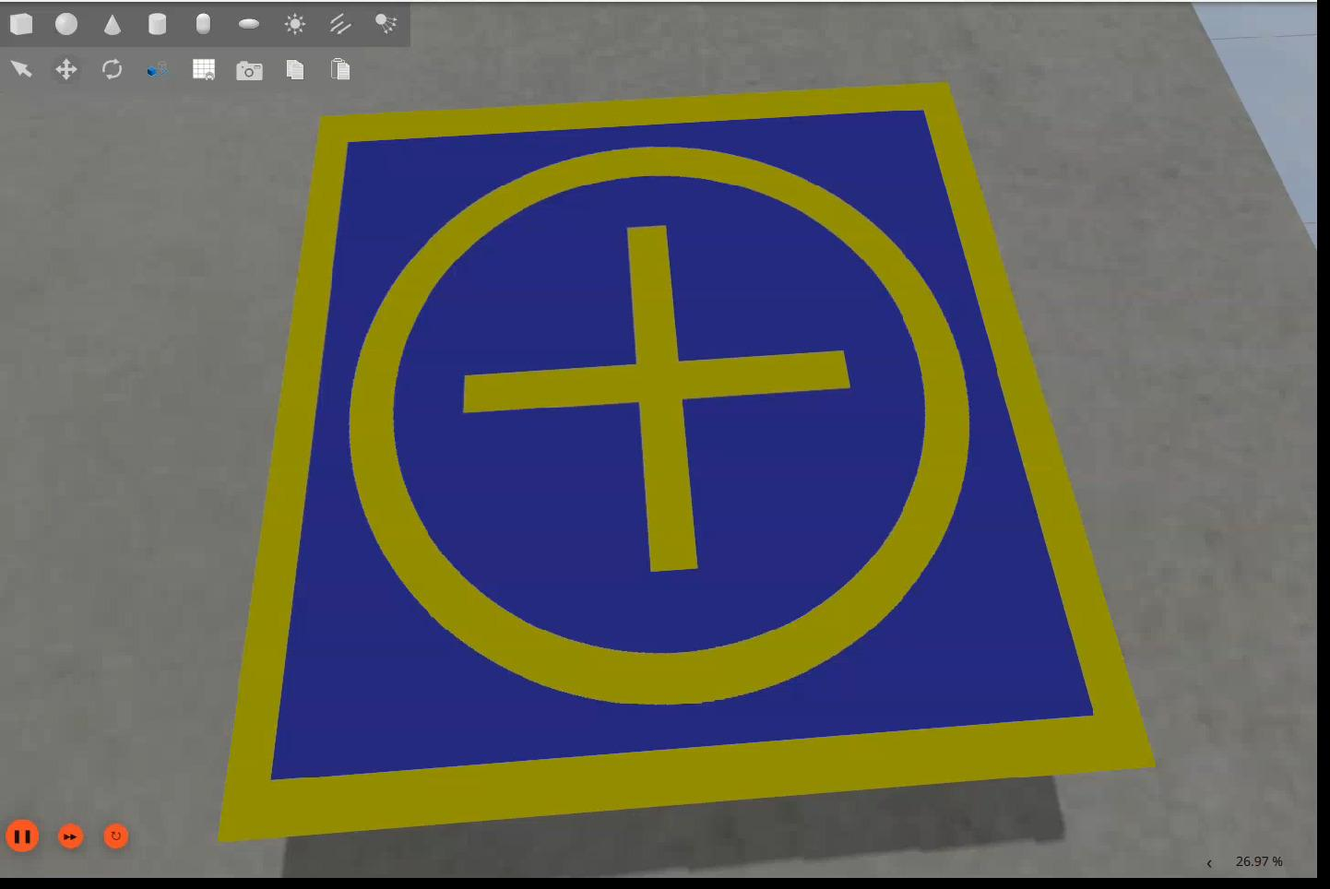small_base: (208, 84, 1162, 848)
